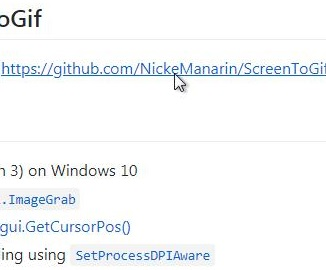cursor: (173, 72, 186, 93)
